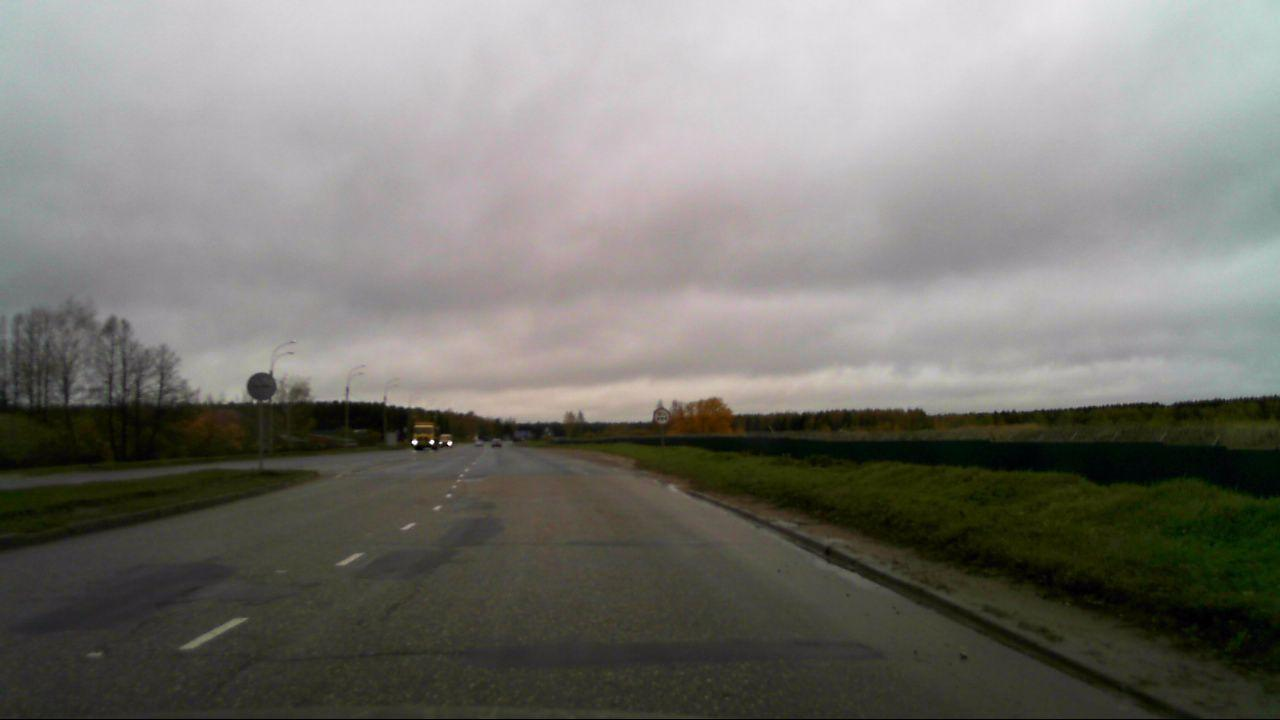3_12: (651, 405, 672, 427)
